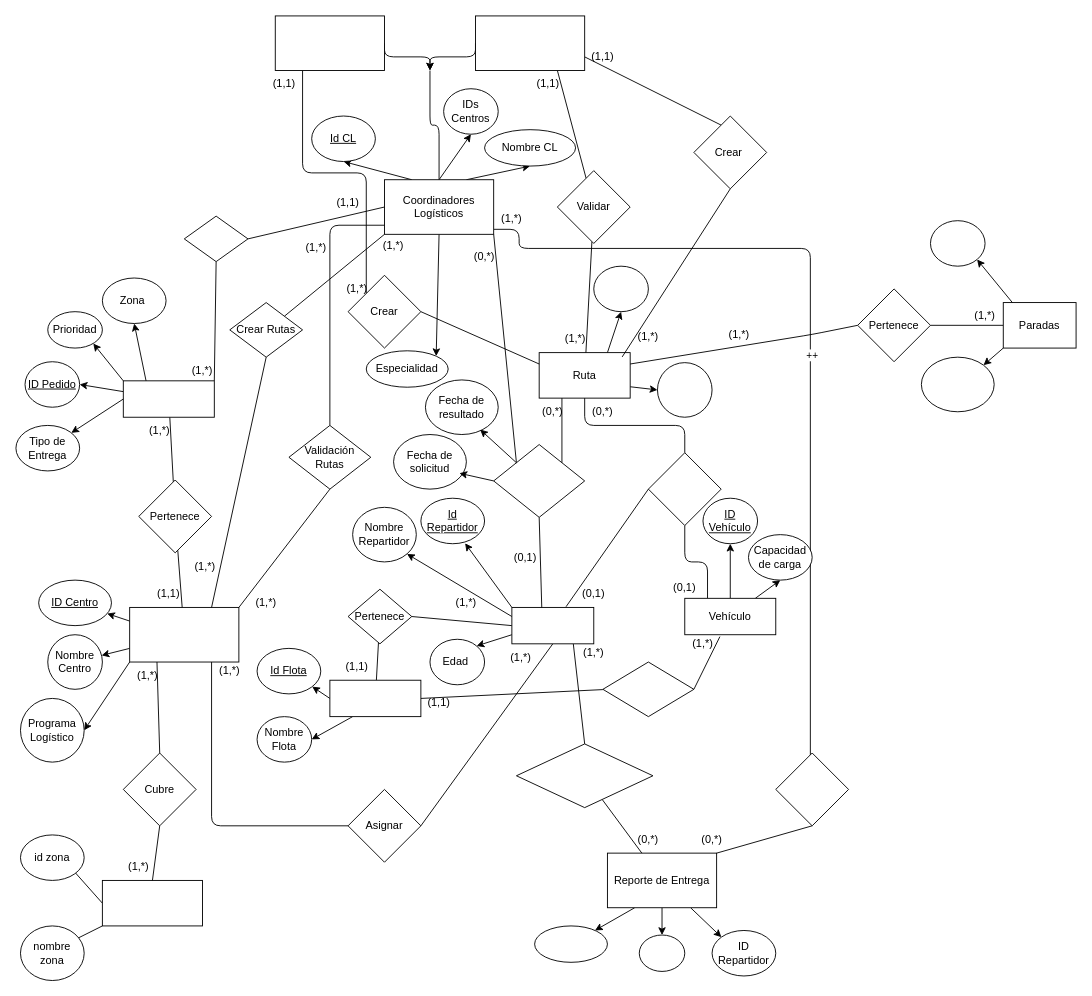
The diagram is 1092 pixels wide and 996 high, and some of its shapes have lost their labels. Each missing label, with the box of its shape:
Centro de Distribución: (129, 607, 239, 662)
ConsultaC: (775, 752, 849, 826)
ConsultaR: (516, 743, 653, 808)
Estado de ejecución: (920, 356, 994, 412)
Fecha: (638, 934, 685, 971)
Flota: (329, 679, 421, 717)
ID Parada: (930, 220, 985, 266)
ID Reporte: (534, 925, 607, 962)
ID Ruta: (593, 265, 648, 312)
Ingresa: (183, 215, 248, 262)
Logistico: (274, 15, 384, 71)
Parámetros: (657, 362, 712, 417)
Pedidos: (122, 380, 214, 417)
Pertenecer: (602, 661, 694, 717)
Realizar: (647, 452, 721, 526)
Repartidores: (511, 607, 594, 644)
Reprogramar: (493, 444, 585, 517)
Supervisor de Operaciones: (475, 15, 585, 71)
Zonas: (101, 880, 202, 926)
